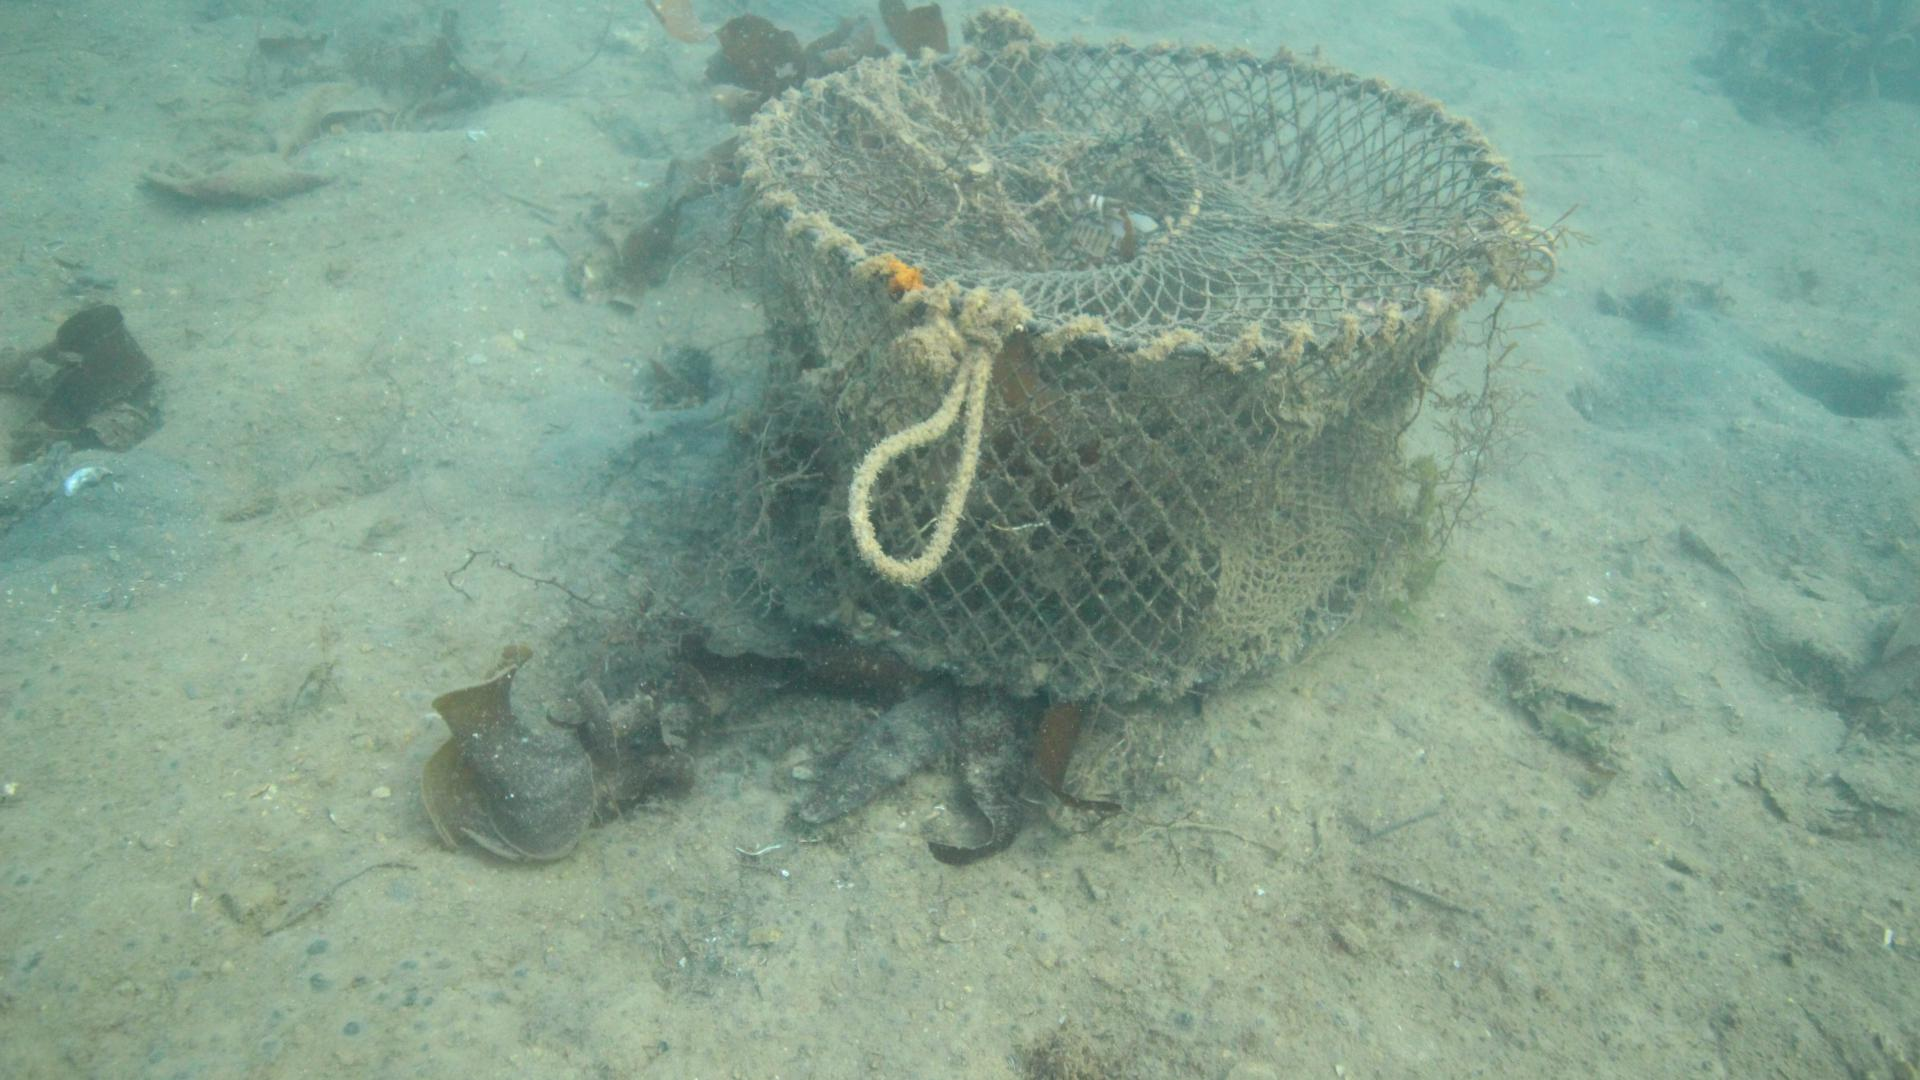circular fish trap: (735, 36, 1527, 702)
